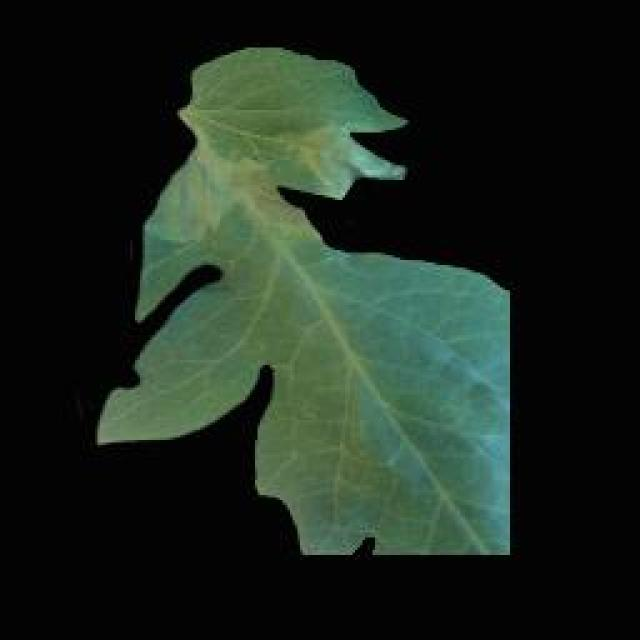Tomato Late Blight: (165, 119, 410, 244)
